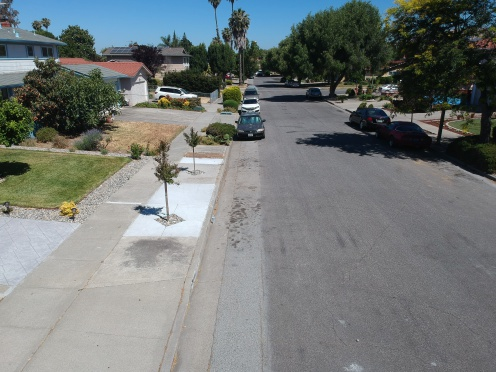bottle: (208, 210, 216, 228)
